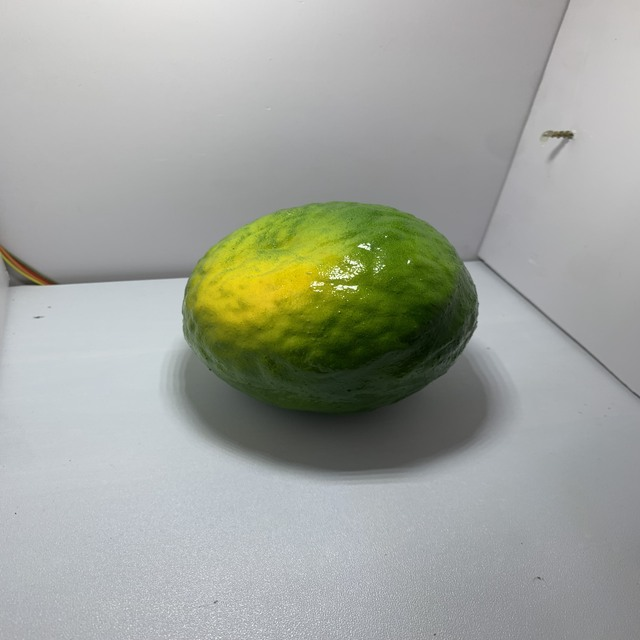Cam xanh: (179, 200, 486, 417)
